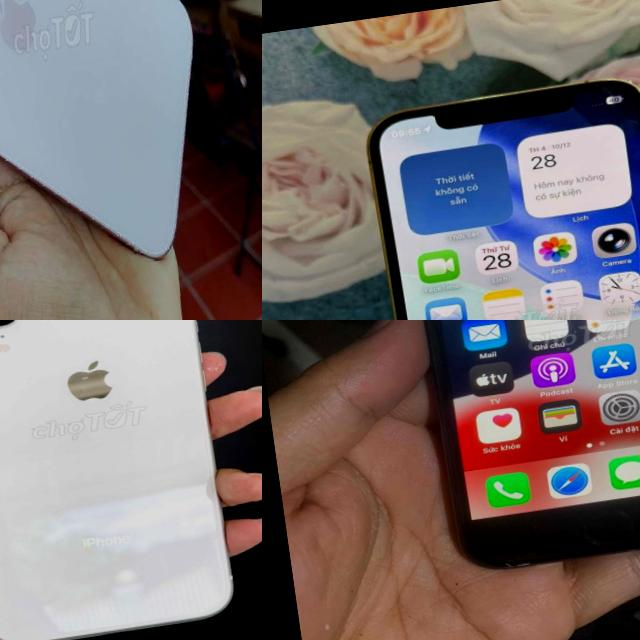gen_12_13: (360, 73, 640, 320)
gen_15: (0, 0, 231, 317)
gen_7_8: (375, 320, 640, 583)
gen_x_xs: (0, 320, 249, 640)
